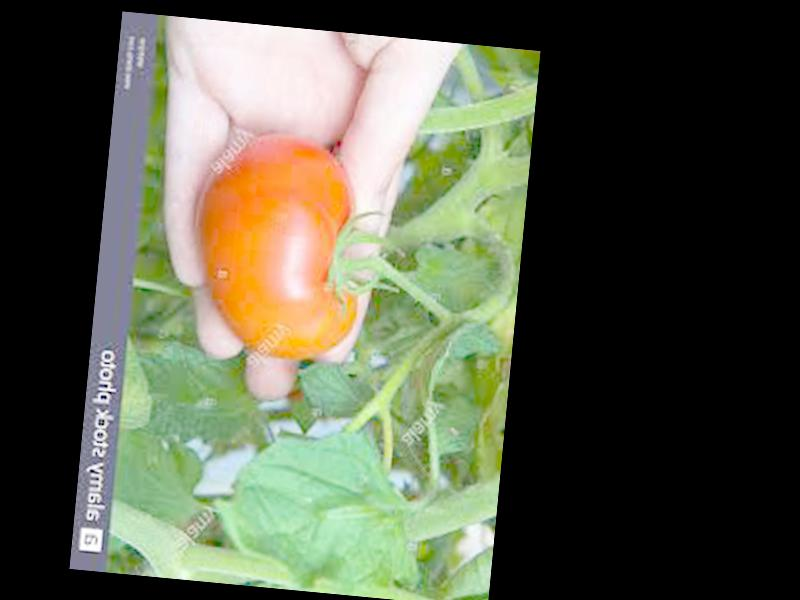Tomato: (189, 125, 372, 364)
